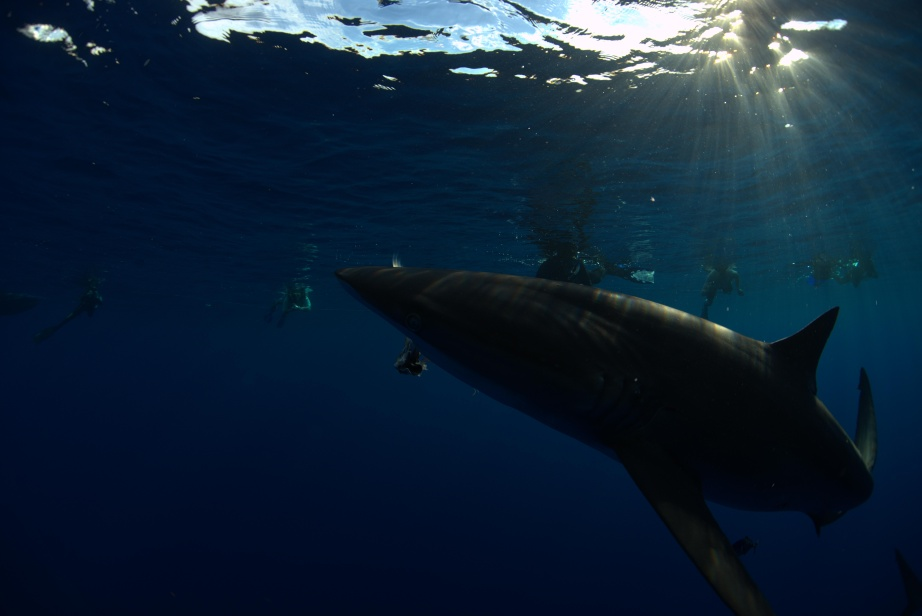Sedoso: (304, 230, 900, 616)
